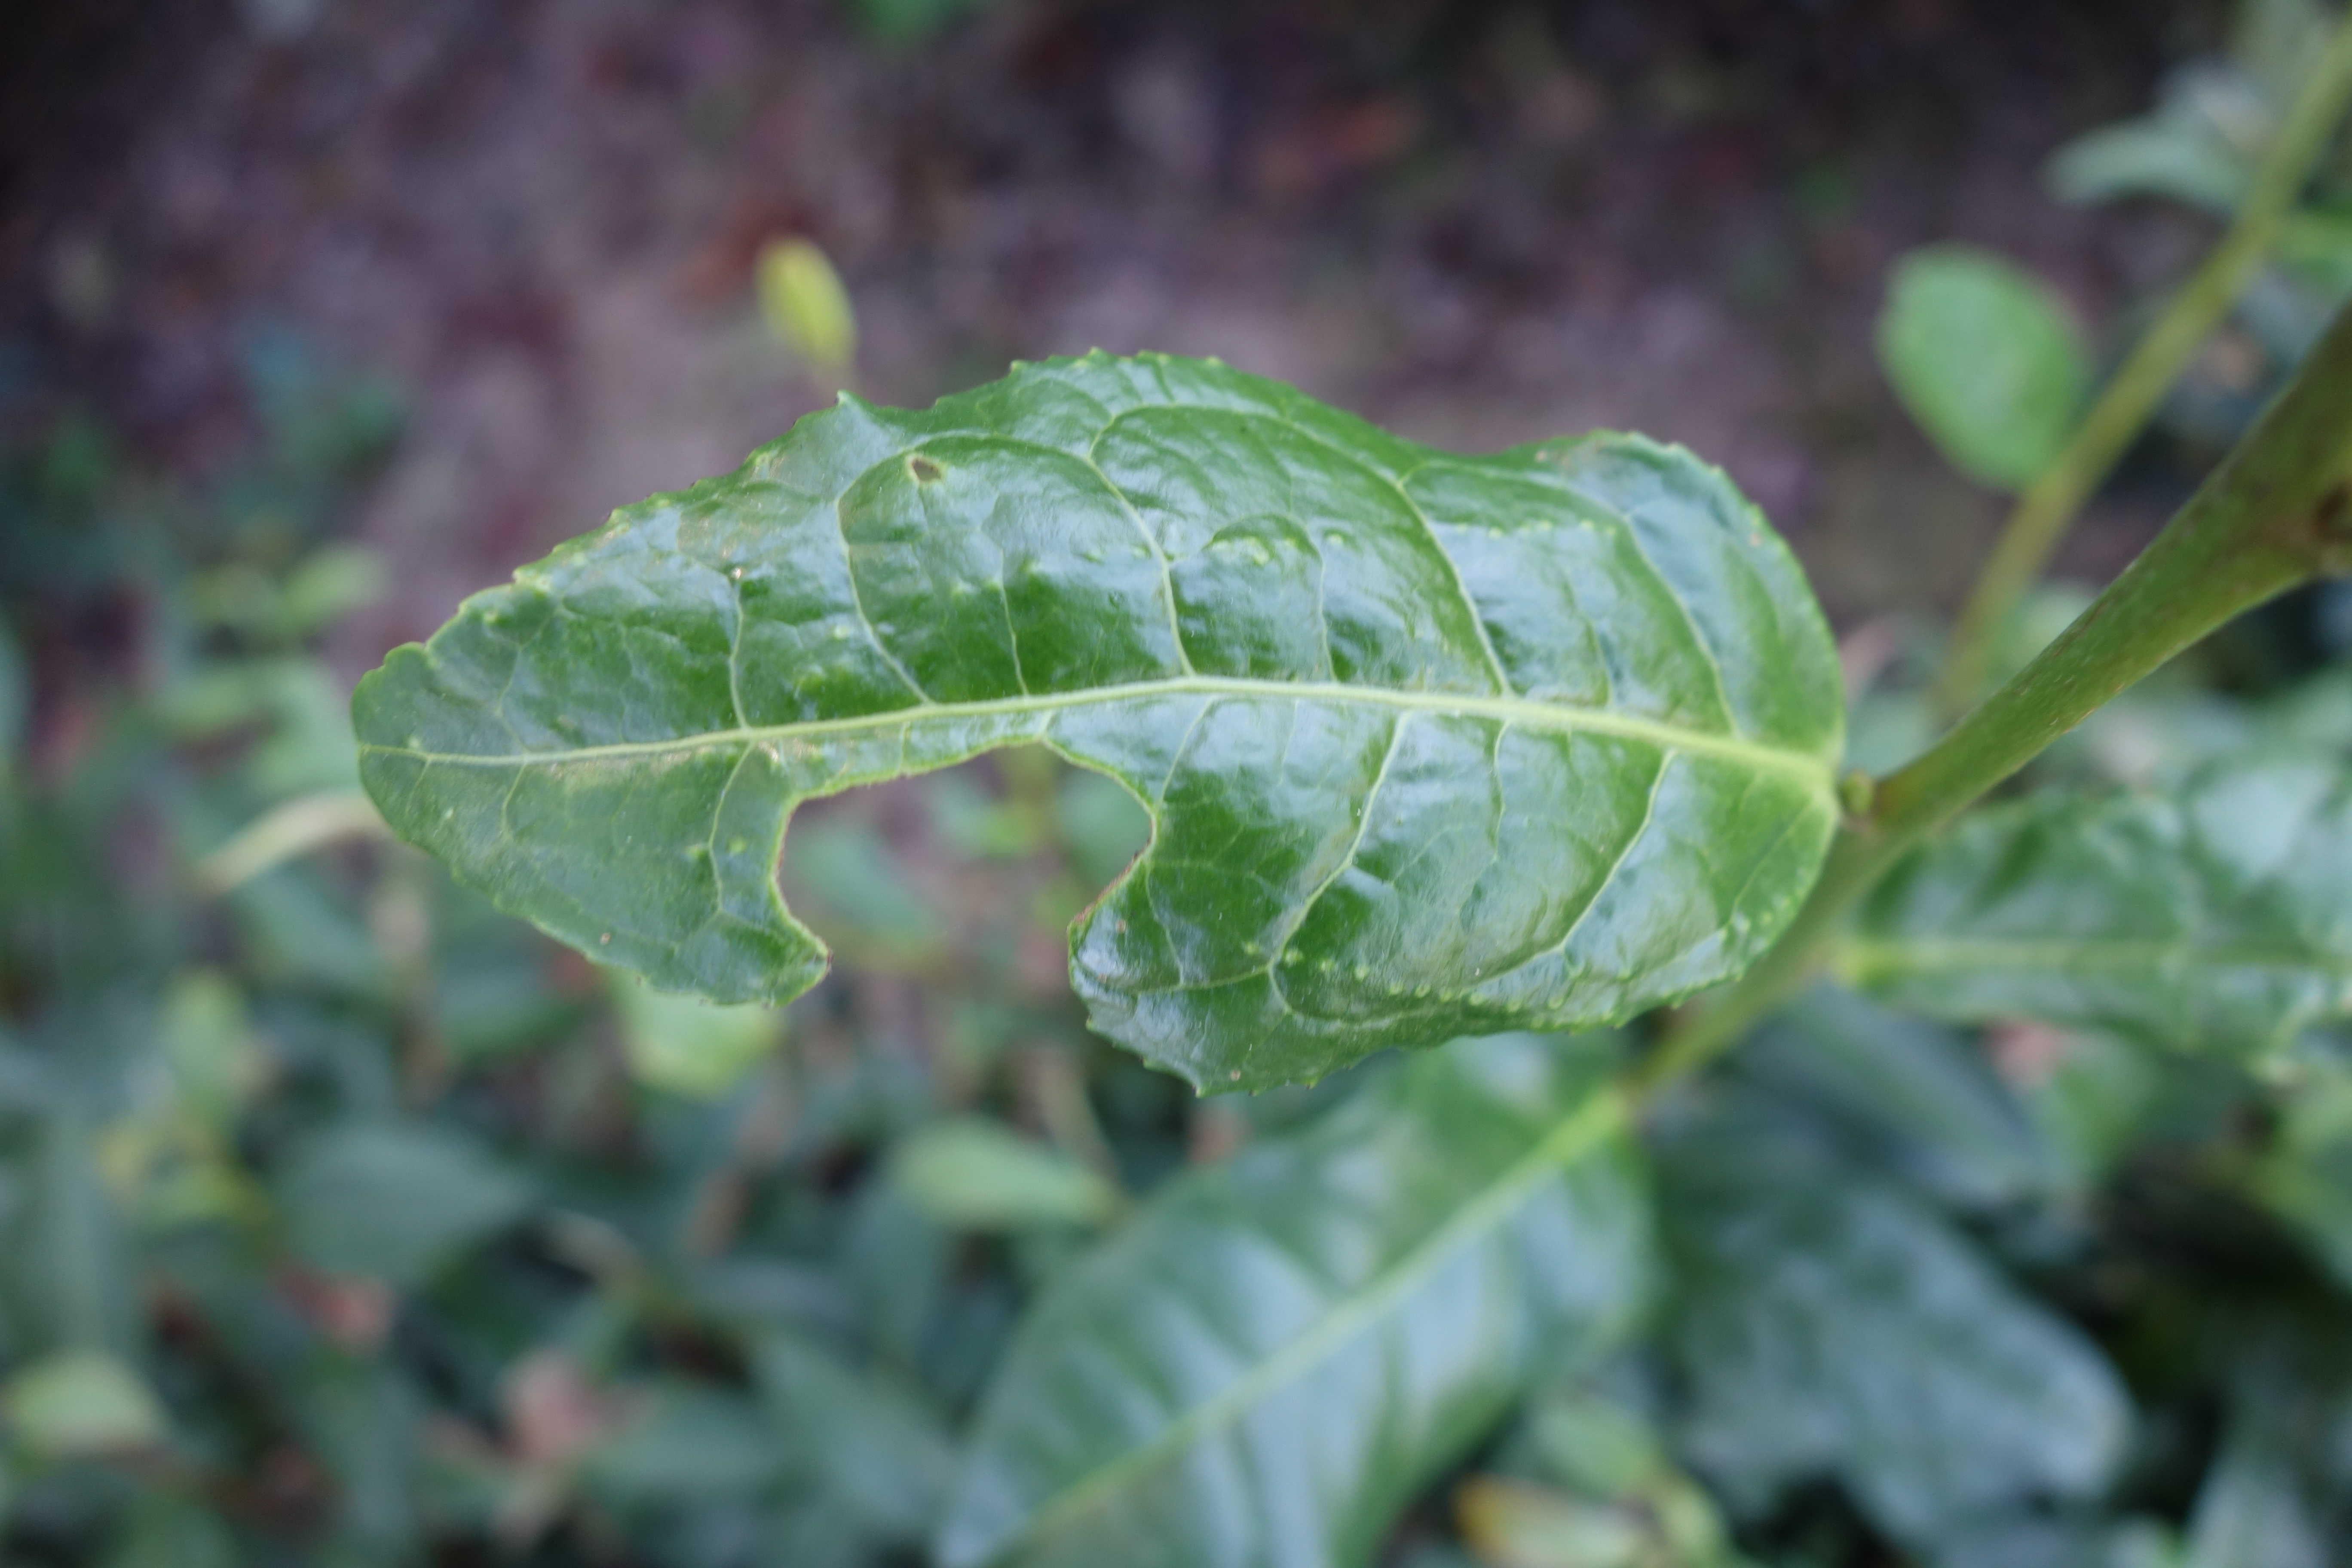chihuo_high: (352, 345, 1857, 1104)
